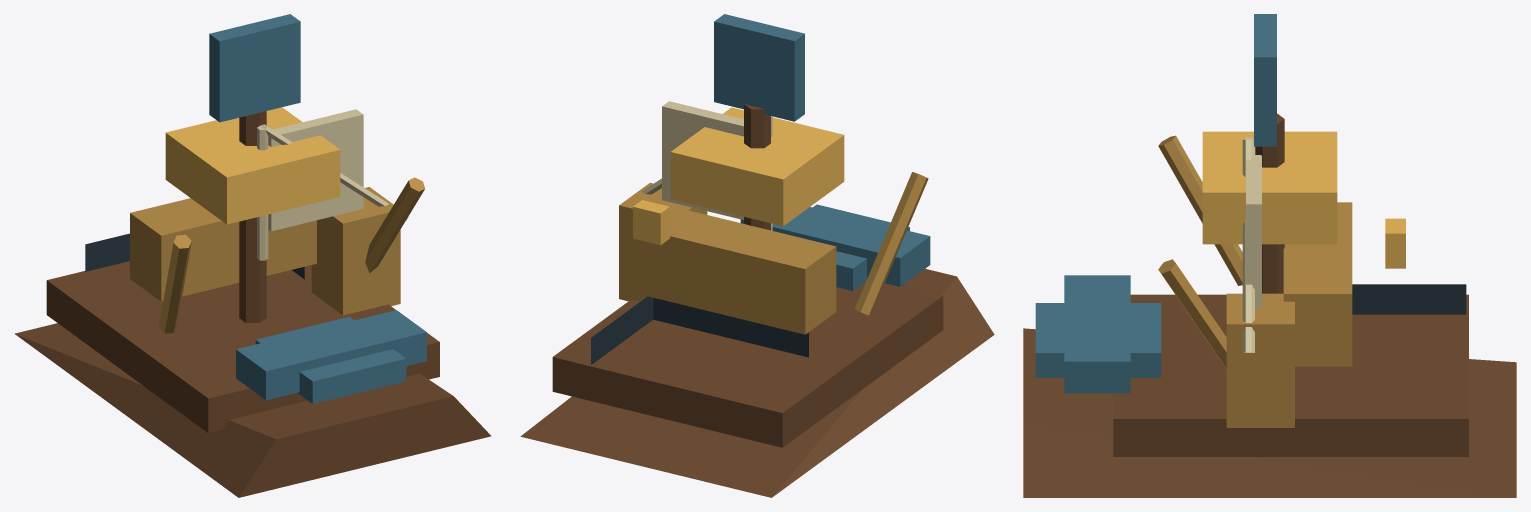
The model's file is fishing-vessel.obj.
3 views of the same model, side by side, from view 1: azimuth 30°, elevation 25°; view 2: azimuth 150°, elevation 25°; view 3: azimuth 270°, elevation 25° (orthographic). The views are drawn at different scales.
Parts seen in each view (by area): view 1: ship; view 2: ship; view 3: ship.
Part boxes in pixels (x1,y1,x2,y2): ship: (14,14,491,497); ship: (520,14,994,497); ship: (1023,14,1516,497).
Bounding box in the file's own units: 1.51 × 1.9 × 2.16.
